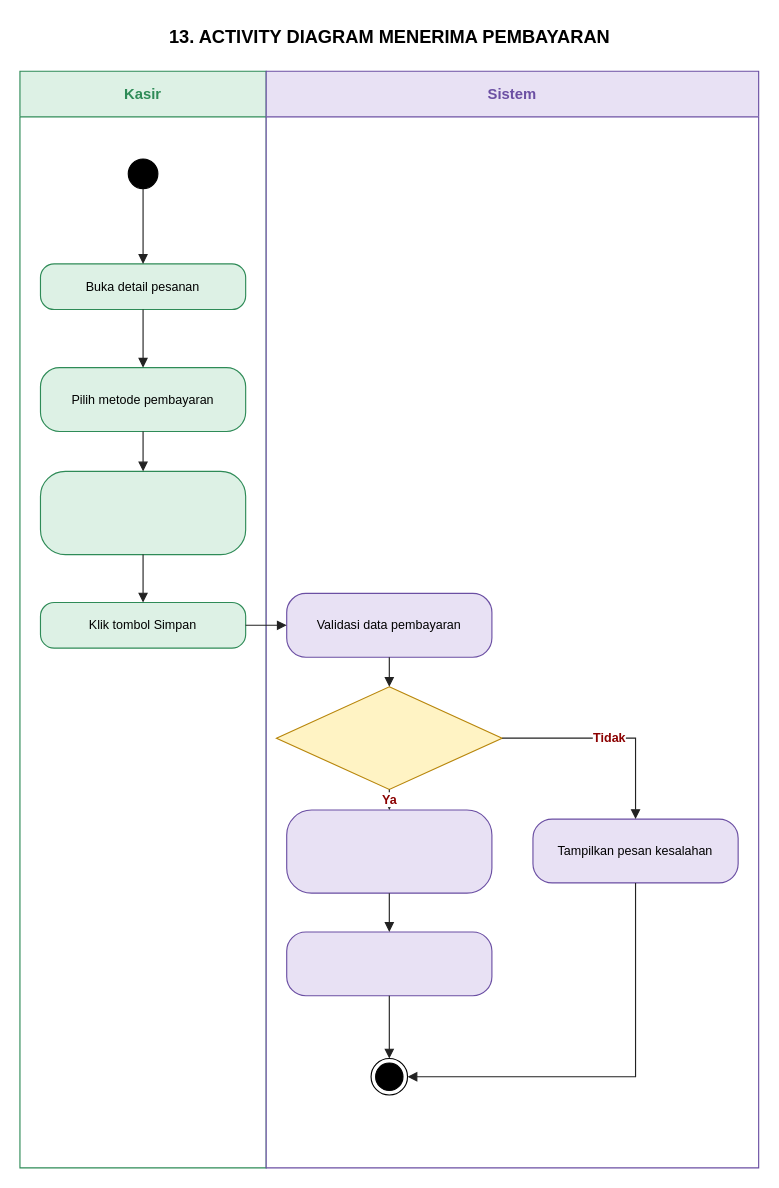
Some shapes in this 779 by 1188 pixel diagram are drawn without their labels. Here are the shapes that lost their labels. From the top down, the centre of each, then its label:
the point at 142,512: Input jumlah dibayar dan tanggal pembayaran
the point at 388,737: Data valid?
the point at 389,851: Simpan pembayaran, perbarui status pembayaran
the point at 389,963: Tampilkan rincian pembayaran
